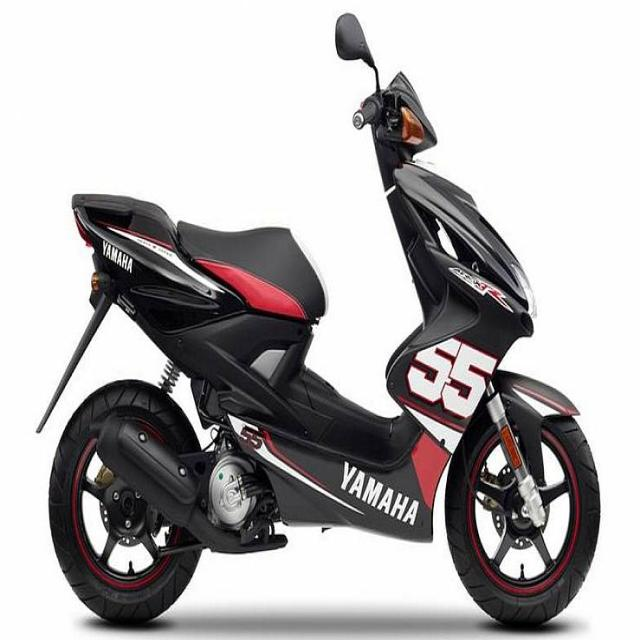Motorcycle: (47, 70, 601, 627)
